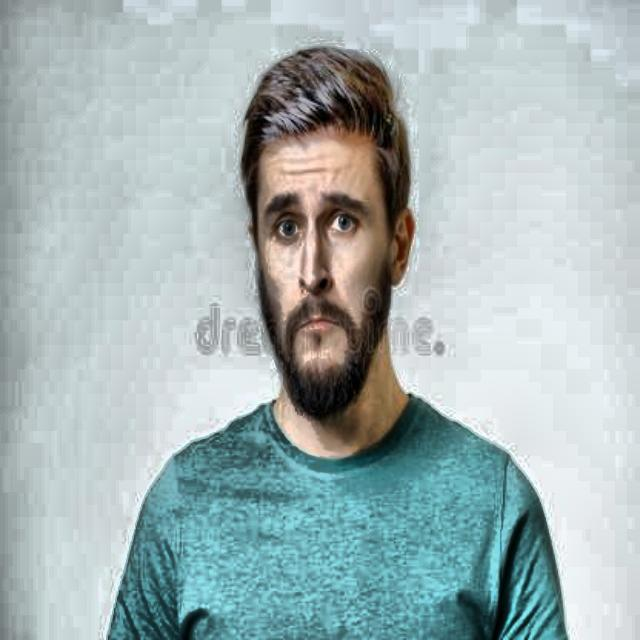sad: (231, 33, 432, 439)
